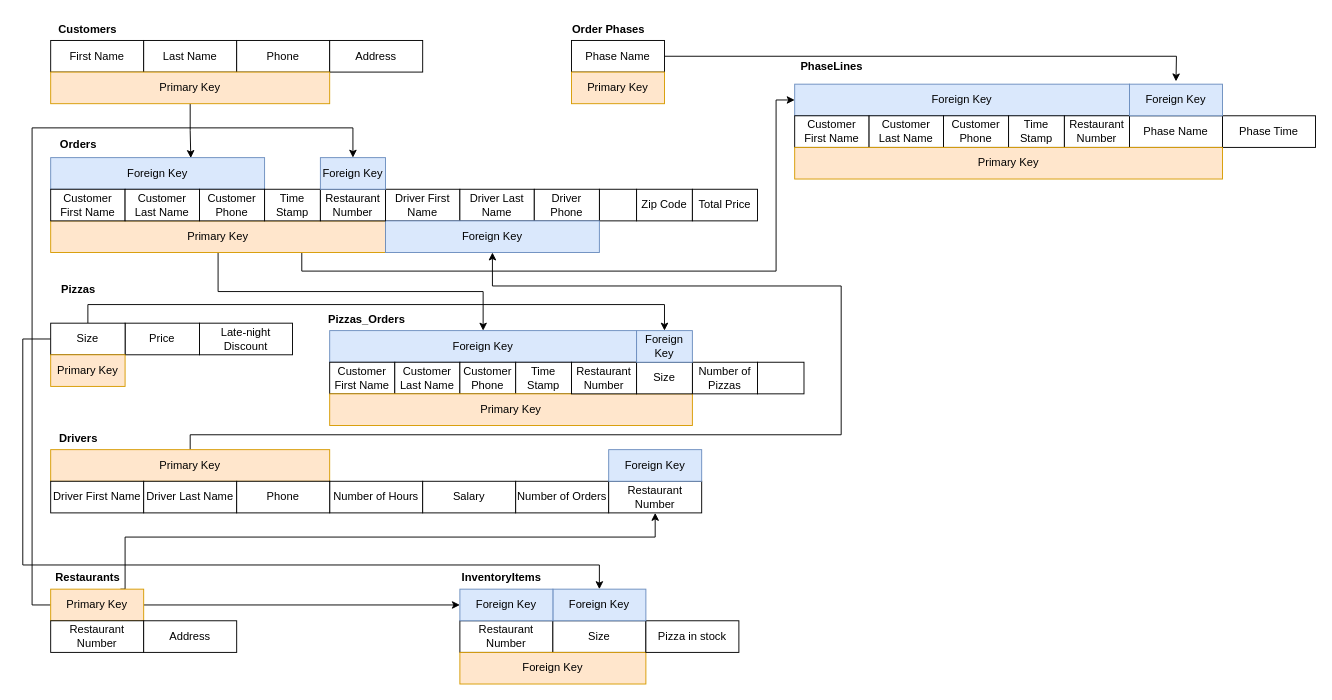
The diagram is 1332 pixels wide and 700 high, and some of its shapes have lost their labels. The shapes that lost their labels are listed below. From the top down, each one's centre as x and y in pixels, then its label:
[617,204]: City
[780,377]: Subtotal
